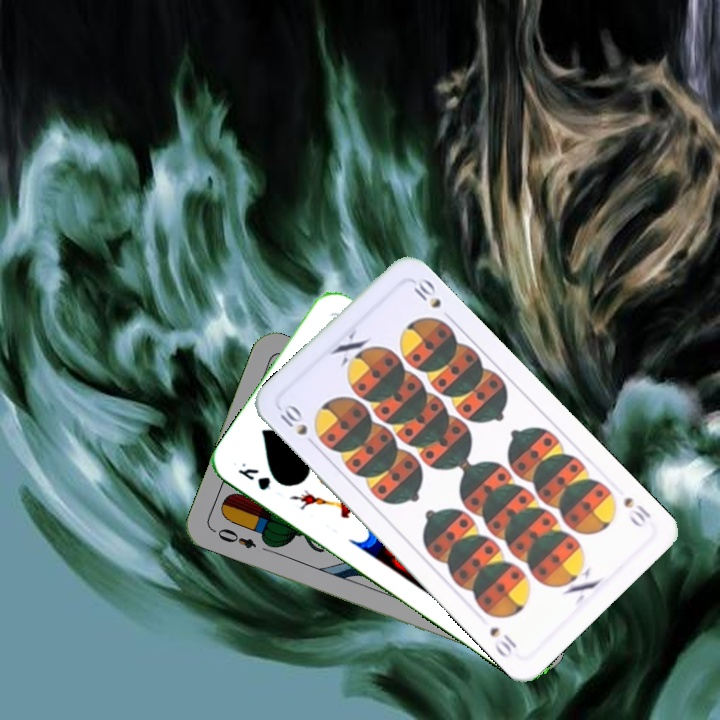EO: (208, 524, 259, 552)
GK: (234, 458, 274, 493)
S10: (275, 400, 310, 438), (619, 493, 654, 530)
